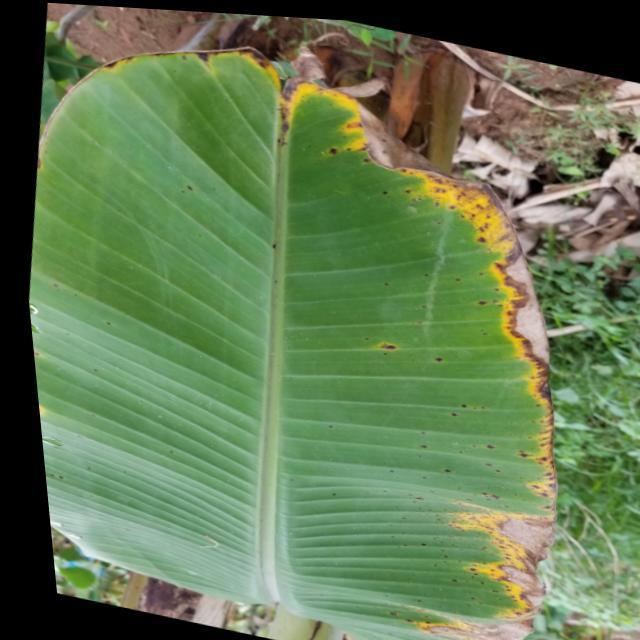Early_rust: (395, 119, 583, 640), (46, 25, 496, 228)
